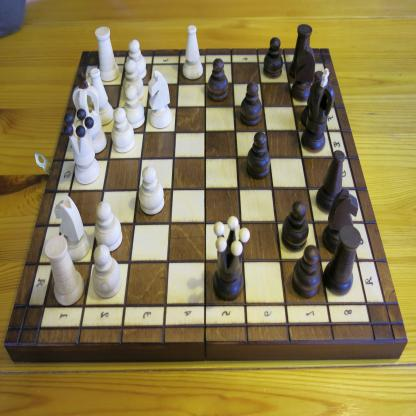black-bishop: (315, 149, 346, 214), (300, 70, 324, 127)
black-king: (300, 68, 336, 153)
black-knight: (321, 188, 359, 254), (290, 45, 315, 102)
black-pawn: (291, 244, 323, 300), (281, 200, 309, 253), (246, 131, 272, 180), (240, 81, 263, 126), (207, 58, 229, 102), (263, 37, 283, 78)
black-queen: (212, 215, 250, 302)
black-rook: (329, 224, 370, 298), (290, 23, 315, 81)
white-bishop: (90, 68, 114, 126), (182, 24, 204, 80)
white-king: (72, 70, 108, 155)
white-knight: (54, 194, 91, 262), (148, 70, 173, 129)
white-pawn: (91, 244, 122, 298), (94, 200, 123, 253), (138, 166, 165, 216), (111, 107, 135, 154), (121, 84, 144, 127), (121, 59, 143, 102), (126, 38, 147, 81)
white-queen: (63, 108, 101, 185)
white-rook: (44, 234, 85, 307), (94, 26, 120, 82)
